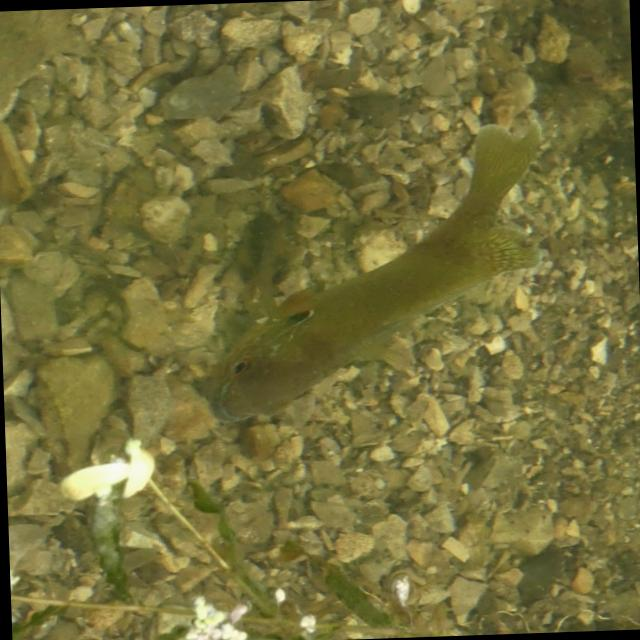Gunes Levregi: (190, 116, 555, 424)
